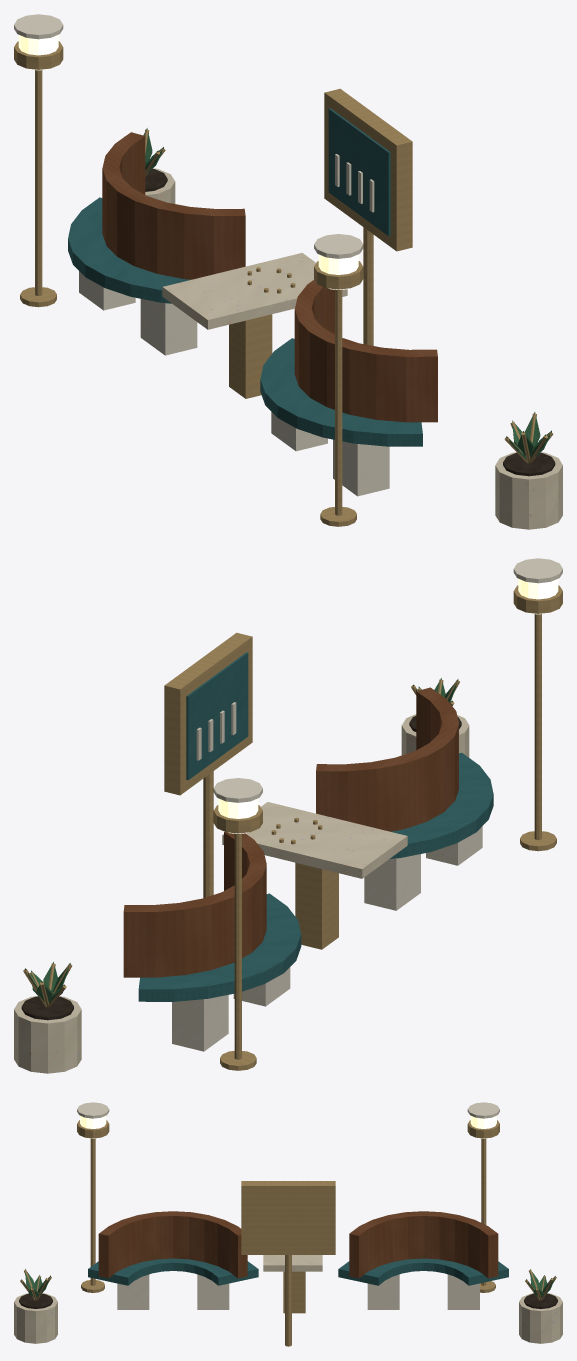
File: G7_Gallery_D12_r001.glb
The picture shows the model from 3 angles, top to bottom: view 1: azimuth 30°, elevation 25°; view 2: azimuth 150°, elevation 25°; view 3: azimuth 270°, elevation 25°; orthographic projection. The views are drawn at different scales.
Visible parts, largest first — view 1: G7_D12_wood_solid, G7_D12_metal_solid, G7_D12_teal_solid, G7_D12_stone_solid, G7_D12_ivory_solid, G7_D12_lens_visual_lens, G7_D12_soil_solid, G7_D12_leaf_visual_plant, G7_D12_ivory_visual_mark; view 2: G7_D12_wood_solid, G7_D12_metal_solid, G7_D12_teal_solid, G7_D12_stone_solid, G7_D12_ivory_solid, G7_D12_lens_visual_lens, G7_D12_soil_solid, G7_D12_leaf_visual_plant, G7_D12_ivory_visual_mark; view 3: G7_D12_wood_solid, G7_D12_metal_solid, G7_D12_ivory_solid, G7_D12_teal_solid, G7_D12_stone_solid, G7_D12_soil_solid, G7_D12_leaf_visual_plant, G7_D12_lens_visual_lens.
Part boxes in pixels (box(x1,y1,x2,y2)): G7_D12_wood_solid: box(102, 132, 437, 422); G7_D12_metal_solid: box(14, 41, 553, 526); G7_D12_teal_solid: box(68, 108, 422, 446); G7_D12_stone_solid: box(145, 168, 562, 529); G7_D12_ivory_solid: box(14, 14, 389, 496); G7_D12_lens_visual_lens: box(18, 34, 358, 289); G7_D12_soil_solid: box(145, 168, 555, 476); G7_D12_leaf_visual_plant: box(124, 128, 551, 459); G7_D12_ivory_visual_mark: box(335, 154, 374, 212); G7_D12_wood_solid: box(123, 687, 458, 977); G7_D12_metal_solid: box(23, 585, 562, 1070); G7_D12_teal_solid: box(138, 652, 493, 1001); G7_D12_stone_solid: box(14, 714, 469, 1073); G7_D12_ivory_solid: box(172, 558, 562, 1051); G7_D12_lens_visual_lens: box(218, 578, 558, 833); G7_D12_soil_solid: box(21, 716, 461, 1020); G7_D12_leaf_visual_plant: box(25, 678, 458, 1003); G7_D12_ivory_visual_mark: box(196, 702, 236, 760); G7_D12_wood_solid: box(98, 1211, 498, 1278); G7_D12_metal_solid: box(20, 1120, 556, 1346); G7_D12_ivory_solid: box(77, 1102, 499, 1309); G7_D12_teal_solid: box(88, 1258, 508, 1285); G7_D12_stone_solid: box(14, 1255, 562, 1343); G7_D12_soil_solid: box(19, 1293, 557, 1308); G7_D12_leaf_visual_plant: box(21, 1269, 555, 1298); G7_D12_lens_visual_lens: box(80, 1115, 496, 1138).
Bounding box in the file's own units: 1.57 × 1.97 × 5.48.
8 materials, 8 textured.
